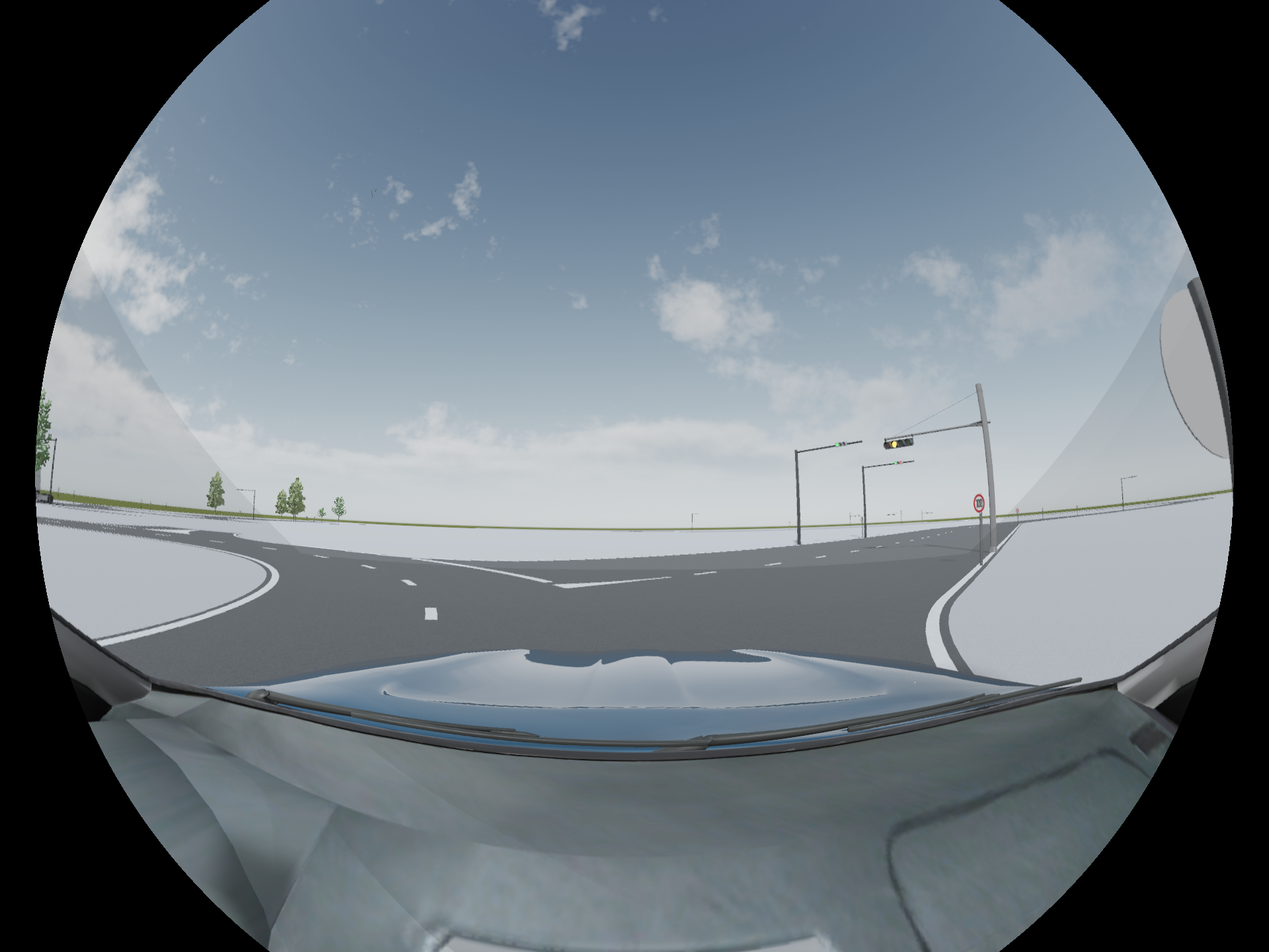Green Light: (834, 441, 848, 448), (894, 460, 903, 465)
Speed Limit 100: (973, 495, 985, 512)
